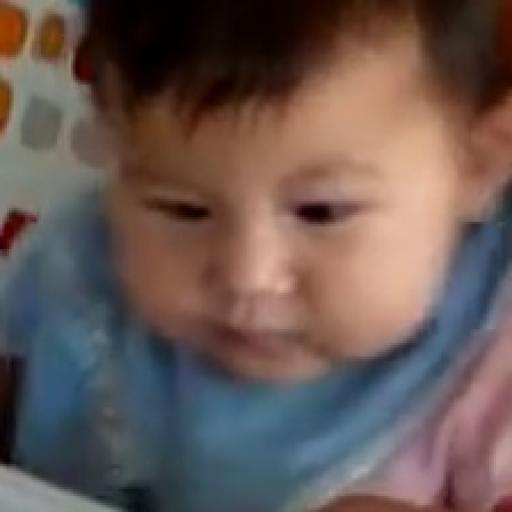Autism: (91, 4, 512, 439)
